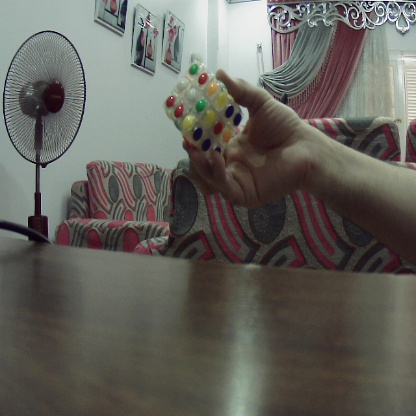Rubix Cube: (170, 64, 234, 151)
